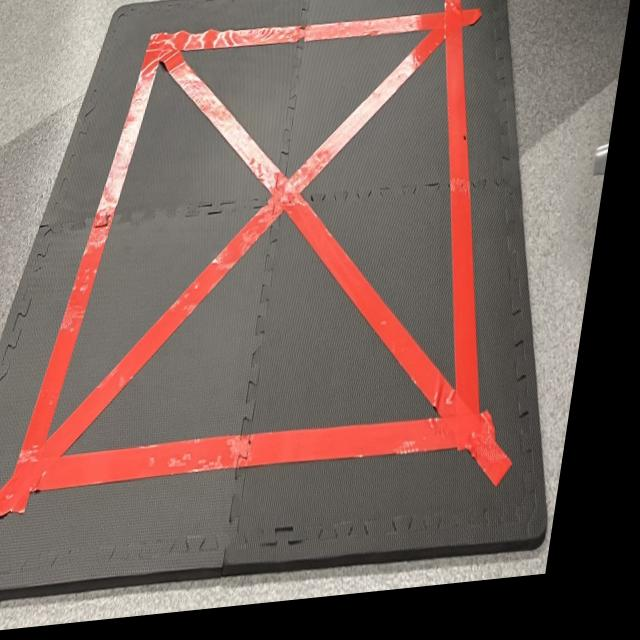landingPads: (0, 0, 633, 610)
